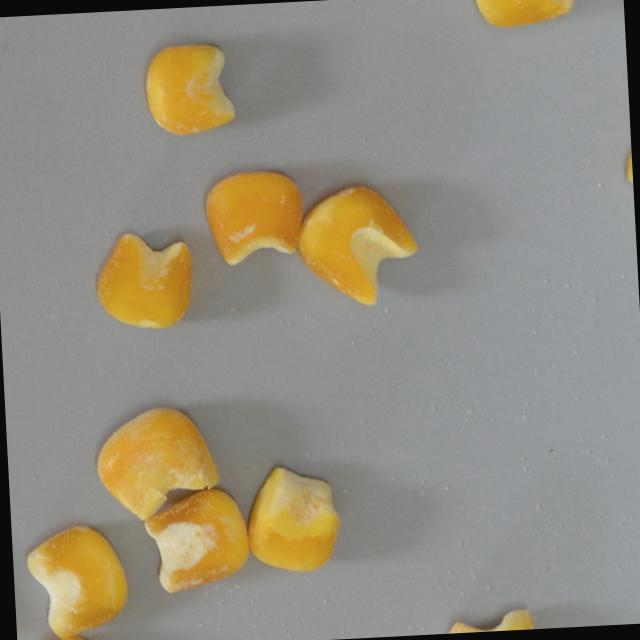no_canjicado: (244, 462, 343, 576), (93, 230, 195, 333), (471, 0, 592, 30)
pelicula: (295, 181, 422, 310), (93, 404, 223, 524), (23, 523, 131, 639), (142, 488, 251, 595), (204, 168, 305, 267), (143, 42, 238, 137), (438, 605, 540, 634), (16, 633, 117, 640)
